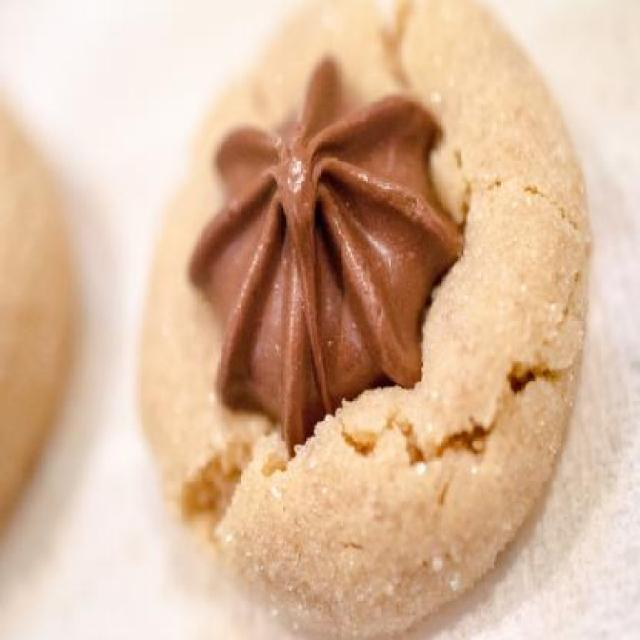Cookie: (133, 0, 598, 638)
